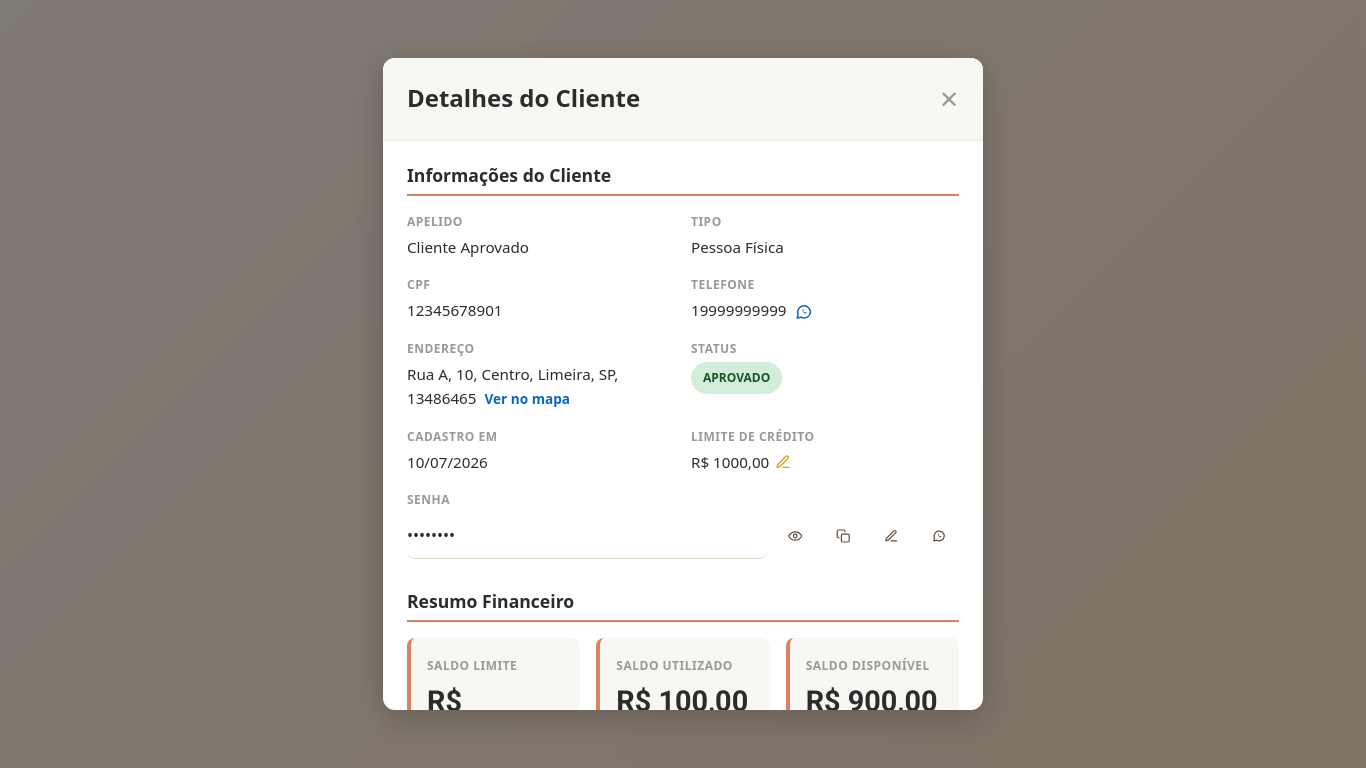
CustomerDetailModal security flows › revela senha quando admin_password e valido
This screenshot has width=1366, height=768.
Click the button named "Visualizar senha" at (795, 536), box [775, 516, 815, 556]
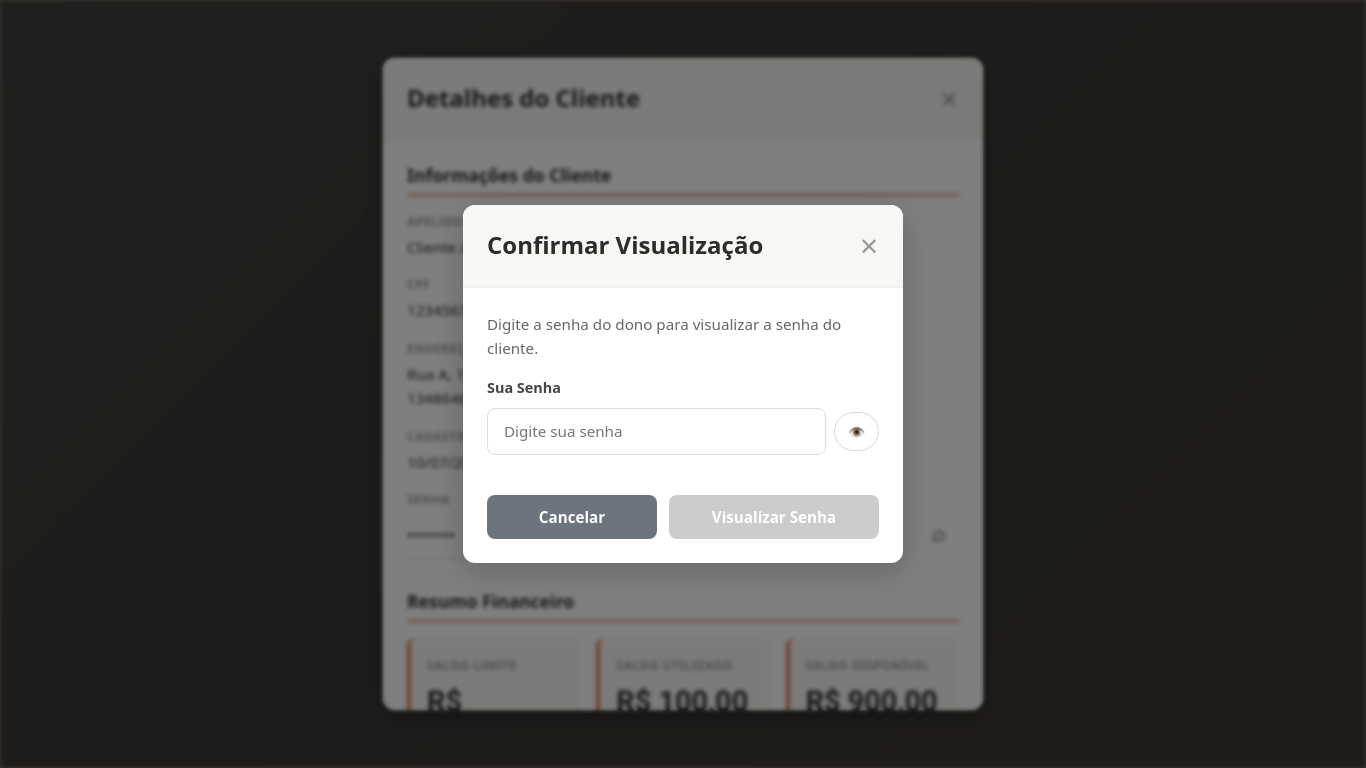
Type "senha-correta" into the password field with placeholder "Digite sua senha" at (657, 431), box [487, 408, 826, 455]
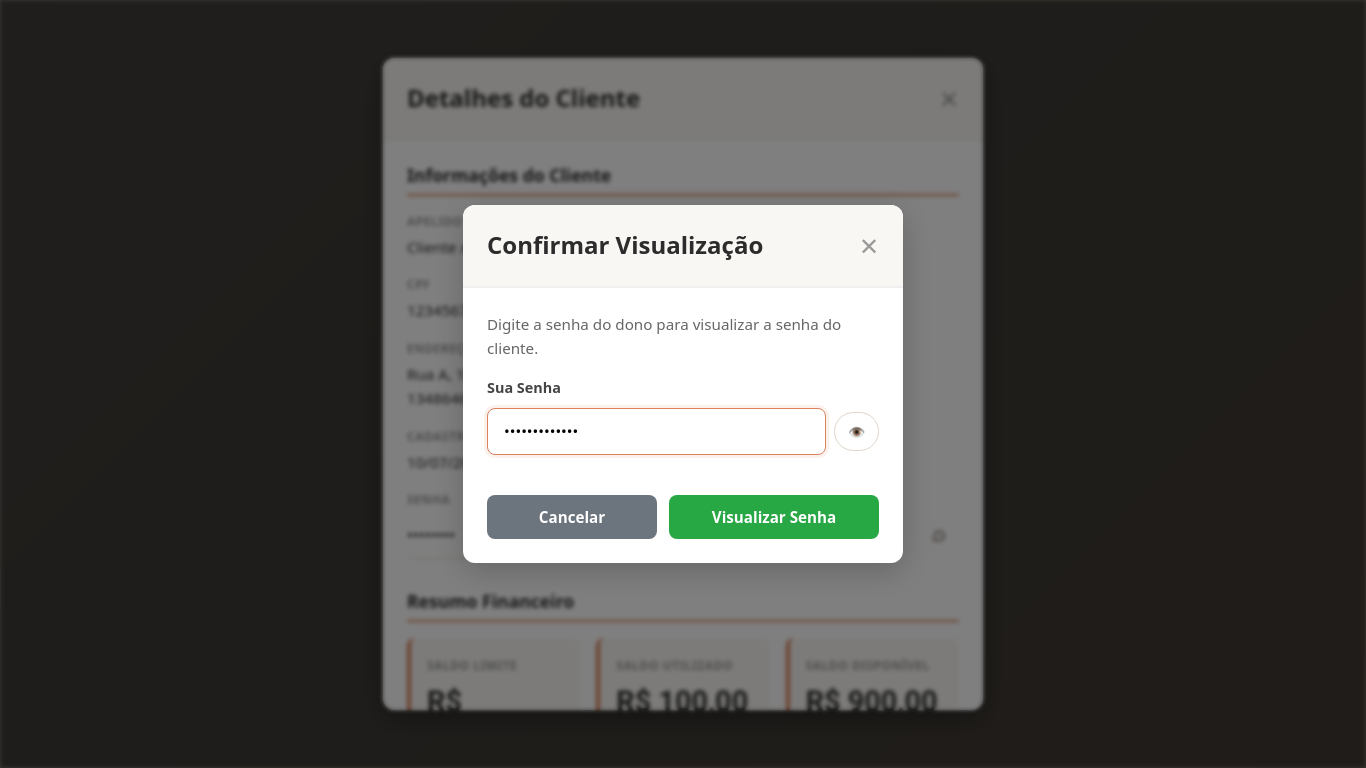
Click the button "Visualizar Senha" at (774, 517), box [669, 495, 879, 539]
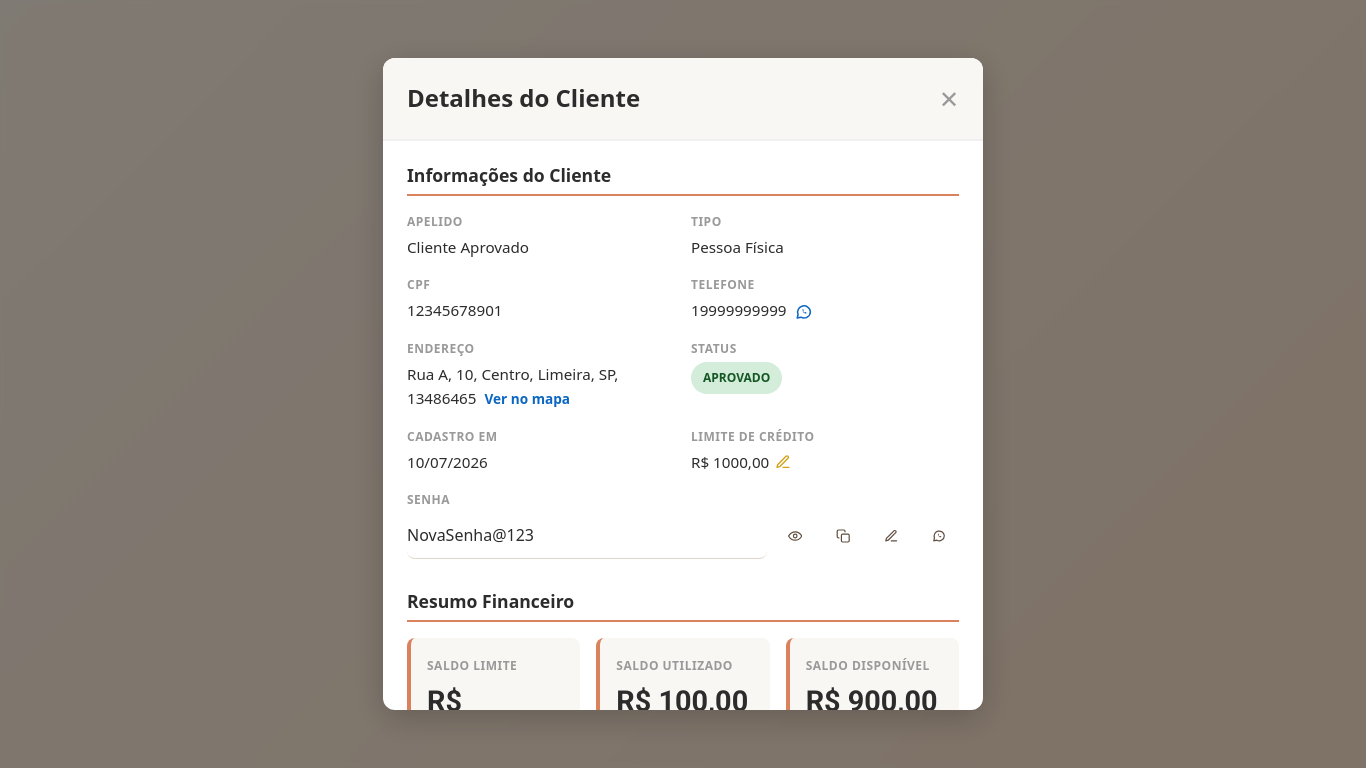
Result: the field showing "NovaSenha@123" is shown at [407, 513, 767, 559]
